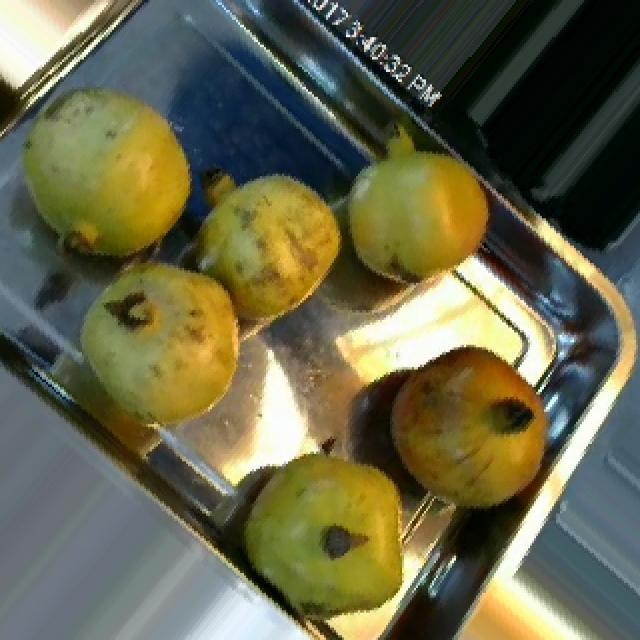fruit: (52, 233, 272, 489), (0, 64, 218, 283), (220, 421, 432, 640), (368, 327, 574, 536), (326, 114, 518, 310), (176, 151, 358, 345)
